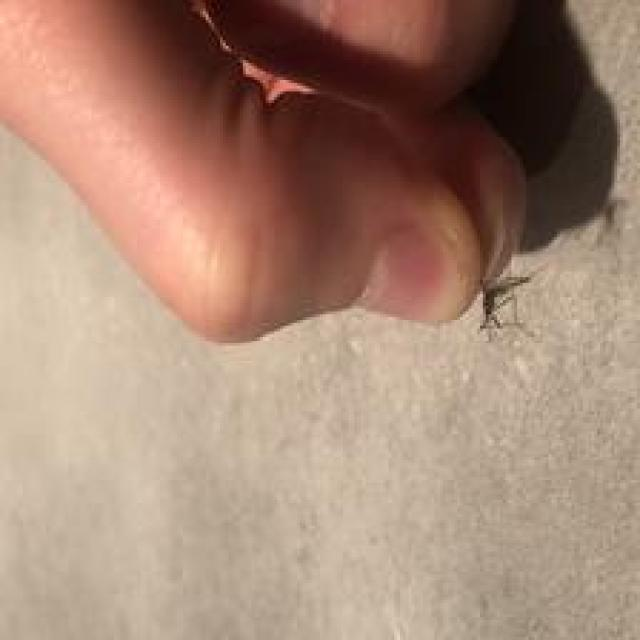Culex: (168, 0, 557, 334)
